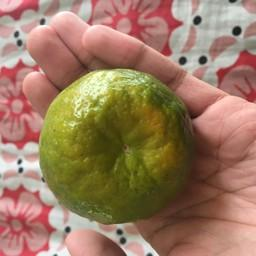Good_orange: (34, 61, 200, 223)
